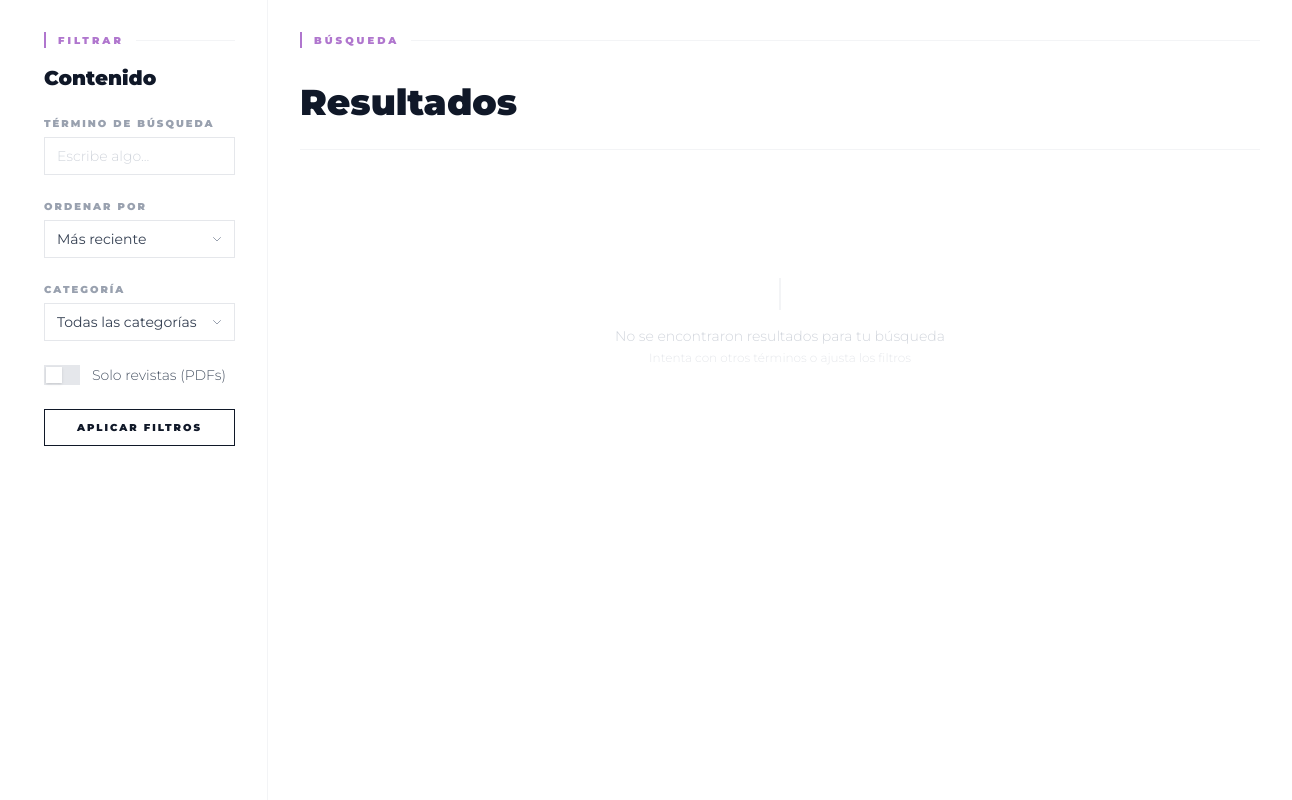
Scenario: aplicar todas las categorías no agrega un filtro oculto
Click the button "Aplicar filtros": (140, 428) [44,409,235,446]
(page scrolled)
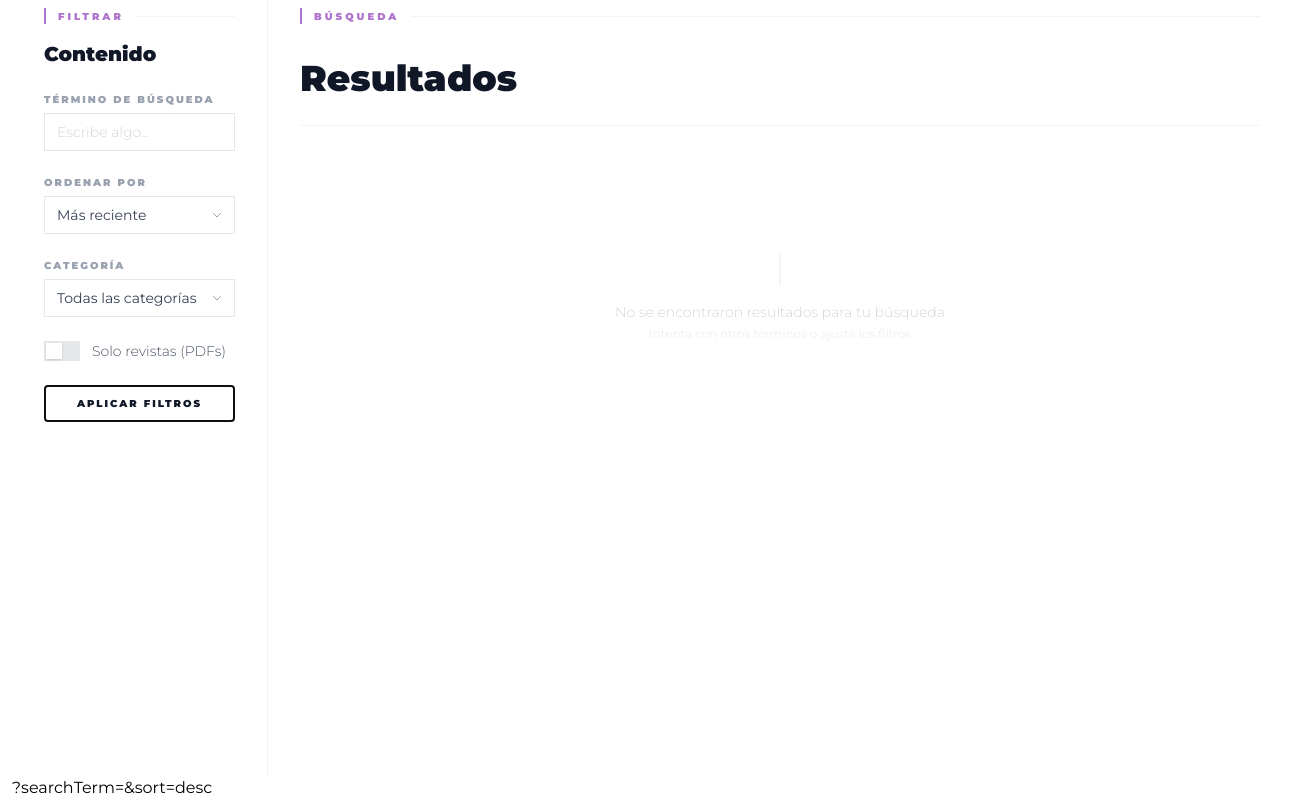
Expected: the text with test id "location" shows "sort=desc", [12,778,212,797]
